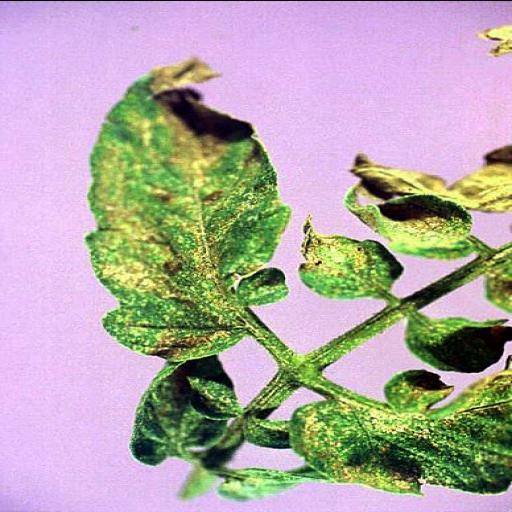Spider Mites: (79, 57, 290, 360), (286, 366, 512, 498), (342, 178, 476, 262), (293, 216, 405, 298)
